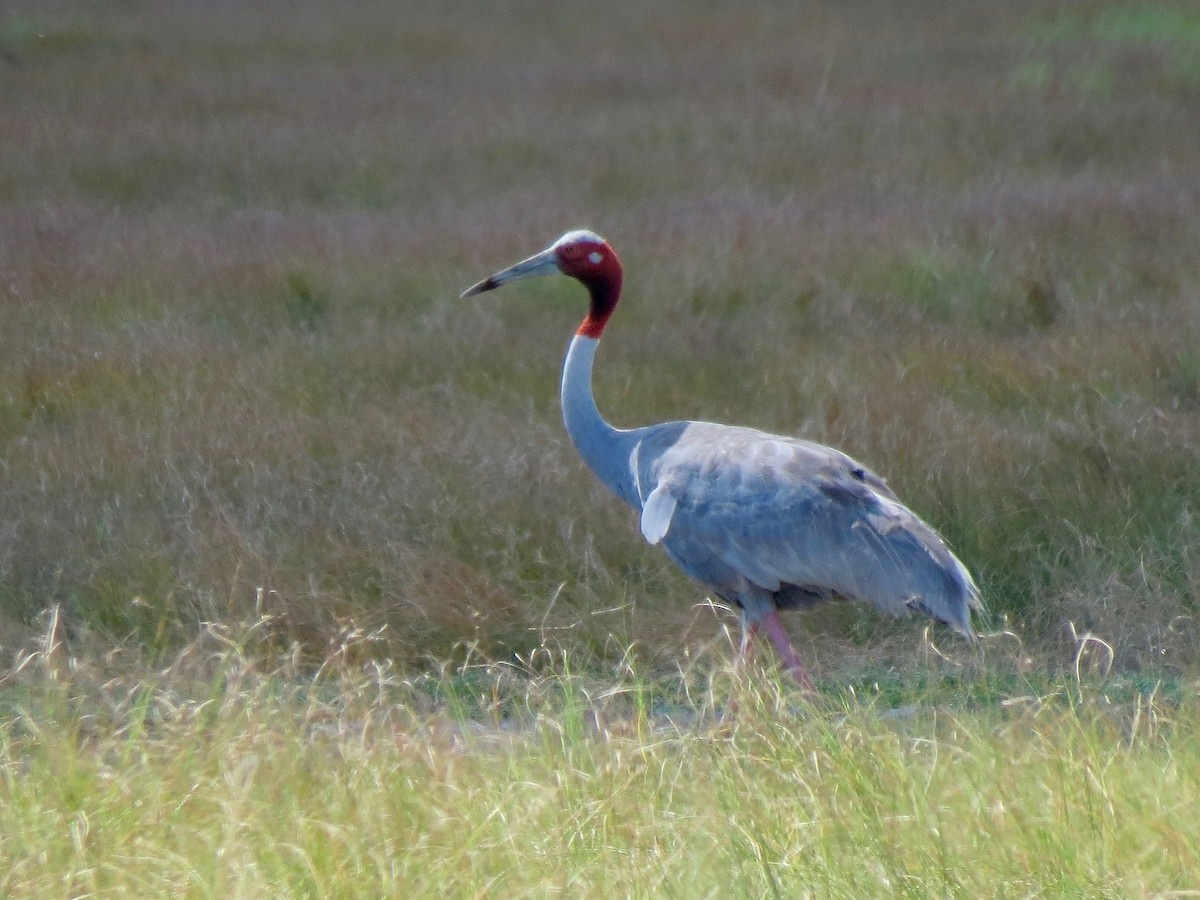crane: (473, 217, 1009, 689)
